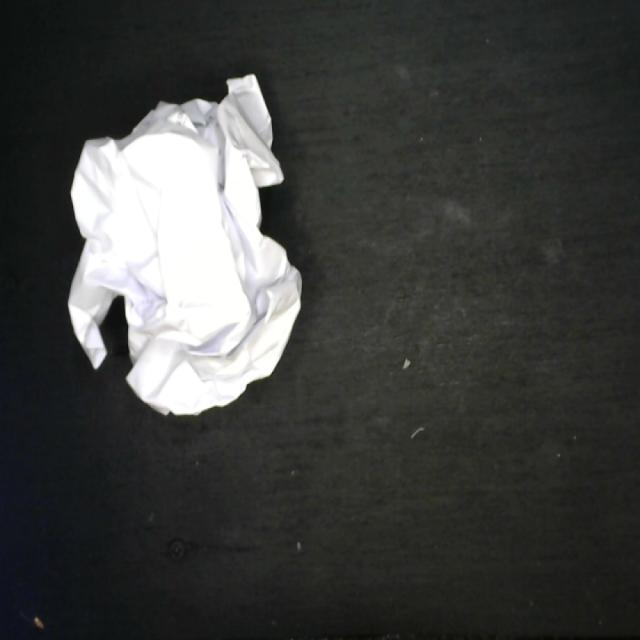biodegradable: (64, 72, 306, 423)
